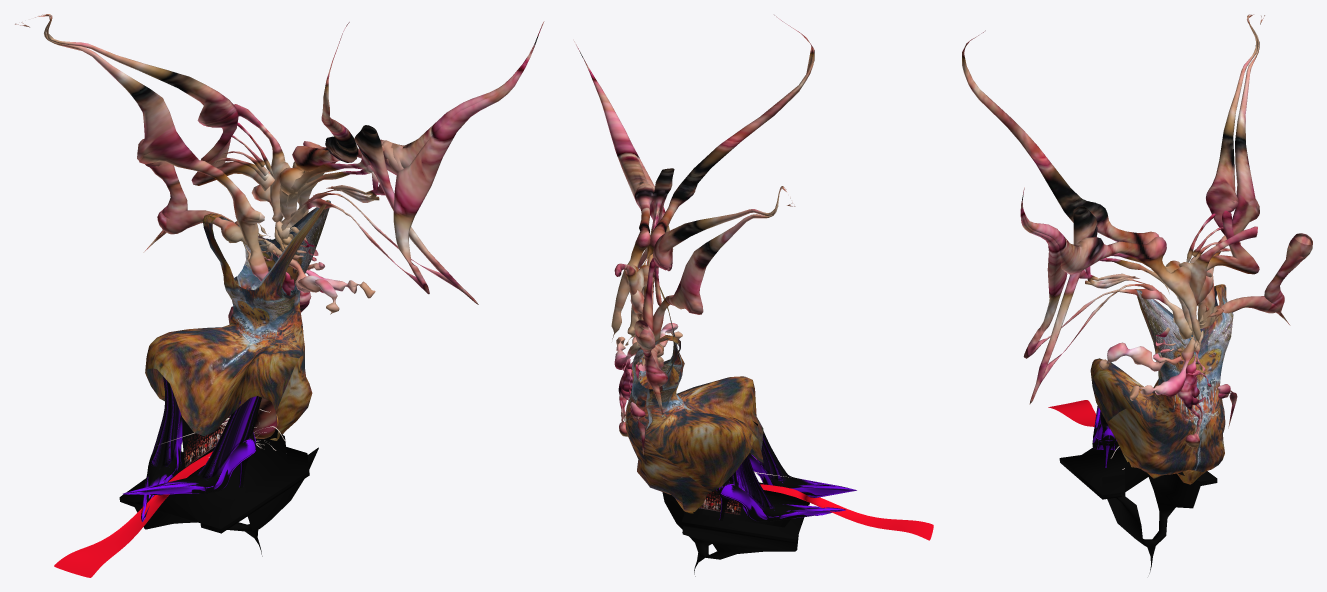
Rendered from modua.gltf.
3 views of the same model, side by side, from view 1: azimuth 30°, elevation 25°; view 2: azimuth 150°, elevation 25°; view 3: azimuth 270°, elevation 25° (orthographic). The views are drawn at different scales.
Visible parts, largest first — view 1: drawsel; view 2: drawsel; view 3: drawsel.
Boxes of the visible parts, x1,y1,x2,y2 form: drawsel: (15, 14, 544, 577); drawsel: (574, 15, 933, 576); drawsel: (962, 14, 1312, 573).
Size of the model in its own units: 9.84 by 12.44 by 7.24.
8 materials, 8 textured.
